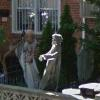Statue: (33, 20, 66, 96)
